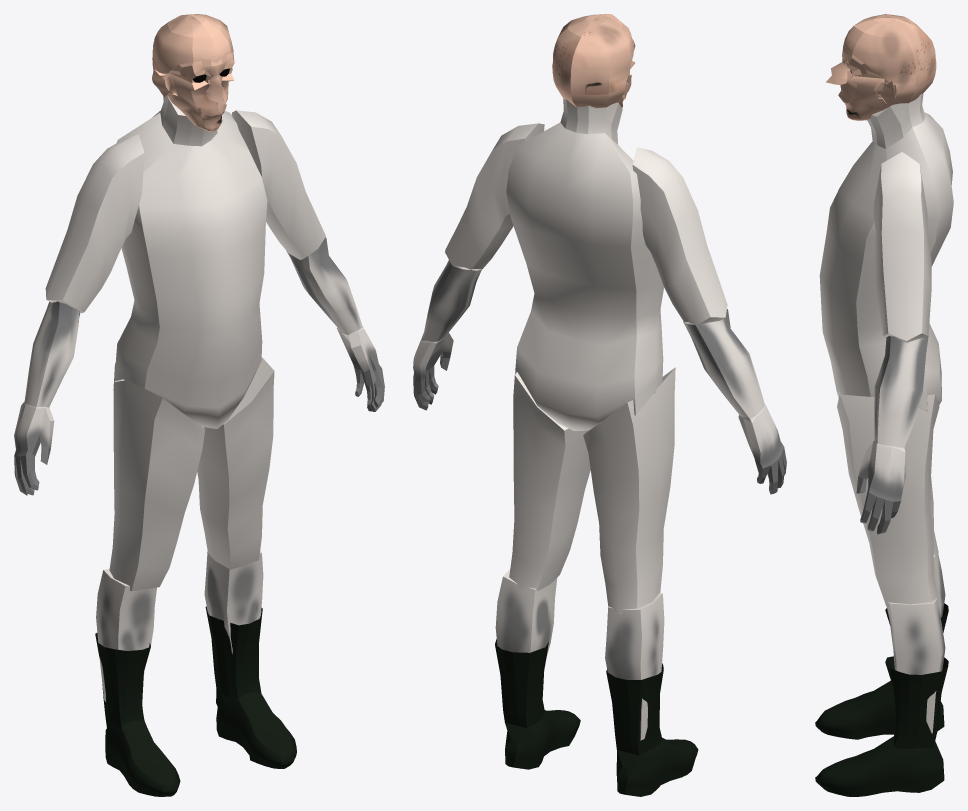
Rendered from vill3.fbx.
The picture shows the model from 3 angles, left to right: view 1: azimuth 30°, elevation 25°; view 2: azimuth 150°, elevation 25°; view 3: azimuth 270°, elevation 25°; orthographic projection.
Parts seen in each view (by area): view 1: Villager_Torso, Villager_Left_Leg_Part_1, Villager_Right_Leg_Part_1, Villager_Left_Arm_Part_1, Villager3_Right_Boot, Villager_Head, Villager3_Left_Boot, Villager_Left_Arm_Part_2, Villager_Right_Arm_Part_1, Villager_Right_Arm_Part_2, polySurface3, polySurface1; view 2: Villager_Torso, Villager_Left_Leg_Part_1, Villager_Right_Leg_Part_1, Villager_Left_Arm_Part_1, Villager3_Left_Boot, Villager_Left_Arm_Part_2, Villager_Head, Villager3_Right_Boot, Villager_Right_Arm_Part_1, Villager_Right_Arm_Part_2, polySurface3, polySurface1; view 3: Villager_Torso, Villager_Right_Leg_Part_1, Villager_Right_Arm_Part_1, Villager3_Right_Boot, Villager_Head, Villager_Right_Arm_Part_2, polySurface1, Villager3_Left_Boot, polySurface3.
Part boxes in pixels (bbox=[...]): Villager_Torso: bbox=[114, 96, 267, 428]; Villager_Left_Leg_Part_1: bbox=[109, 363, 205, 591]; Villager_Right_Leg_Part_1: bbox=[197, 357, 274, 569]; Villager_Left_Arm_Part_1: bbox=[45, 134, 144, 313]; Villager3_Right_Boot: bbox=[205, 606, 296, 768]; Villager_Head: bbox=[152, 14, 234, 131]; Villager3_Left_Boot: bbox=[95, 633, 180, 796]; Villager_Left_Arm_Part_2: bbox=[14, 301, 79, 495]; Villager_Right_Arm_Part_1: bbox=[232, 110, 325, 259]; Villager_Right_Arm_Part_2: bbox=[286, 237, 384, 411]; polySurface3: bbox=[96, 569, 156, 701]; polySurface1: bbox=[204, 551, 263, 654]; Villager_Torso: bbox=[506, 98, 663, 430]; Villager_Left_Leg_Part_1: bbox=[583, 367, 675, 613]; Villager_Right_Leg_Part_1: bbox=[509, 372, 590, 591]; Villager_Left_Arm_Part_1: bbox=[632, 147, 727, 325]; Villager3_Left_Boot: bbox=[606, 663, 698, 796]; Villager_Left_Arm_Part_2: bbox=[683, 309, 786, 494]; Villager_Head: bbox=[552, 14, 635, 108]; Villager3_Right_Boot: bbox=[495, 639, 580, 769]; Villager_Right_Arm_Part_1: bbox=[445, 123, 544, 269]; Villager_Right_Arm_Part_2: bbox=[413, 260, 481, 410]; polySurface3: bbox=[605, 593, 664, 740]; polySurface1: bbox=[495, 569, 557, 656]; Villager_Torso: bbox=[819, 93, 953, 411]; Villager_Right_Leg_Part_1: bbox=[837, 394, 939, 606]; Villager_Right_Arm_Part_1: bbox=[873, 152, 931, 342]; Villager3_Right_Boot: bbox=[815, 656, 948, 796]; Villager_Head: bbox=[826, 14, 936, 120]; Villager_Right_Arm_Part_2: bbox=[856, 336, 928, 534]; polySurface1: bbox=[887, 598, 945, 733]; Villager3_Left_Boot: bbox=[815, 603, 948, 739]; polySurface3: bbox=[933, 554, 945, 617].
Size of the model in its own units: 103 by 201 by 34.07.
